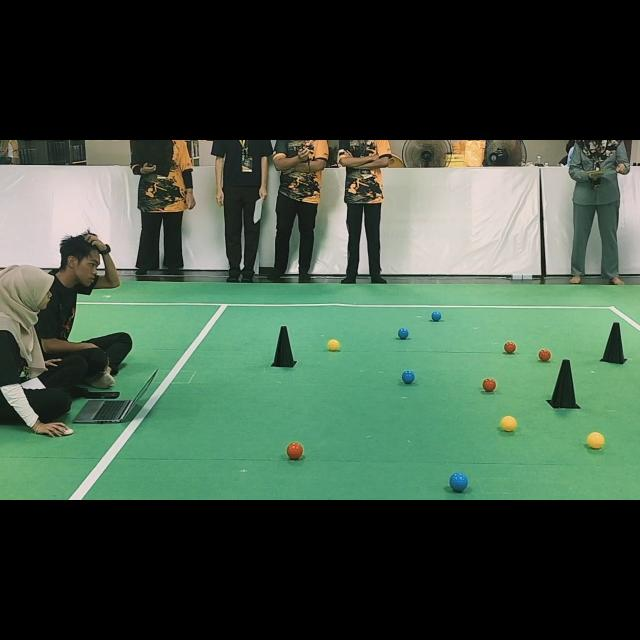ball: (450, 472, 468, 492), (286, 441, 304, 459), (588, 432, 605, 449), (500, 415, 518, 431), (401, 370, 415, 384), (482, 378, 496, 392), (504, 341, 516, 354), (328, 339, 340, 351), (539, 349, 551, 361), (398, 328, 409, 339), (431, 311, 442, 321)
